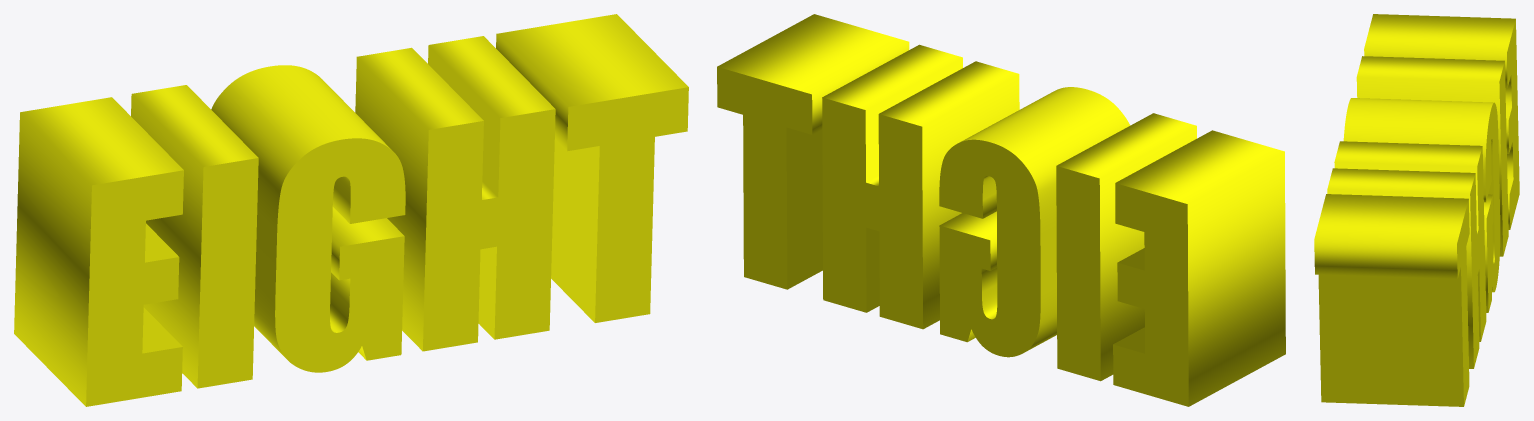
The model's file is 3_Eight-FINAL.glb.
3 renders of one model, left to right at view 1: azimuth 30°, elevation 25°; view 2: azimuth 150°, elevation 25°; view 3: azimuth 270°, elevation 25°, orthographic. The views are drawn at different scales.
Visible parts, largest first — view 1: 1; view 2: 1; view 3: 1.
Part boxes in pixels (left/top/right/bottom): 1: left=14, top=14, right=688, bottom=406; 1: left=717, top=14, right=1285, bottom=406; 1: left=1314, top=14, right=1519, bottom=406.
Bounding box in the file's own units: 1.26 × 0.4883 × 0.4859.
